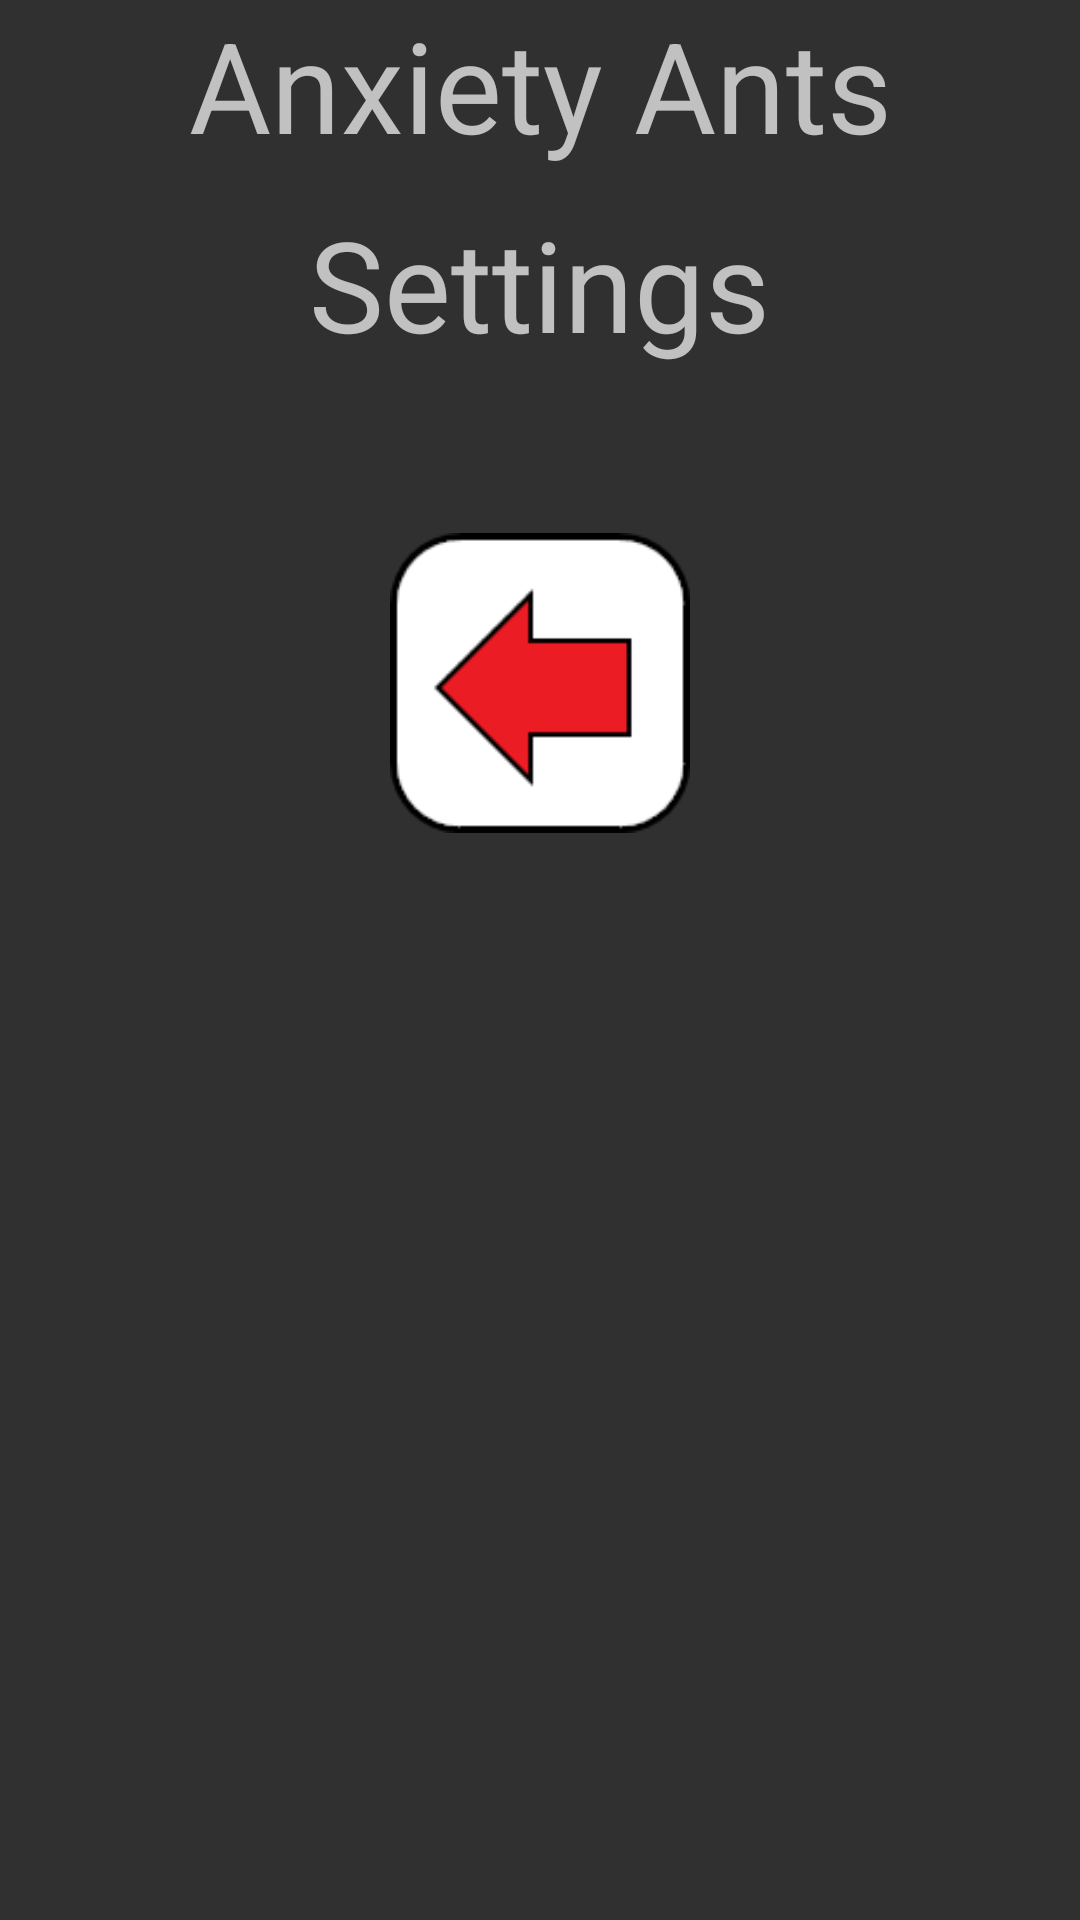

Icons on this 1080 x 1920 Android screen, each with the point to tap as [x,y]:
left arrow: [540,683]
